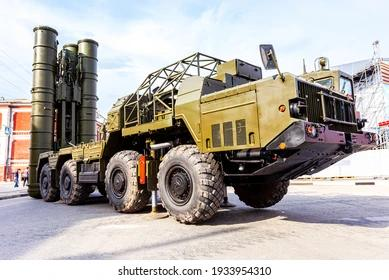MIL_SAM_TEL: (27, 21, 375, 227)
